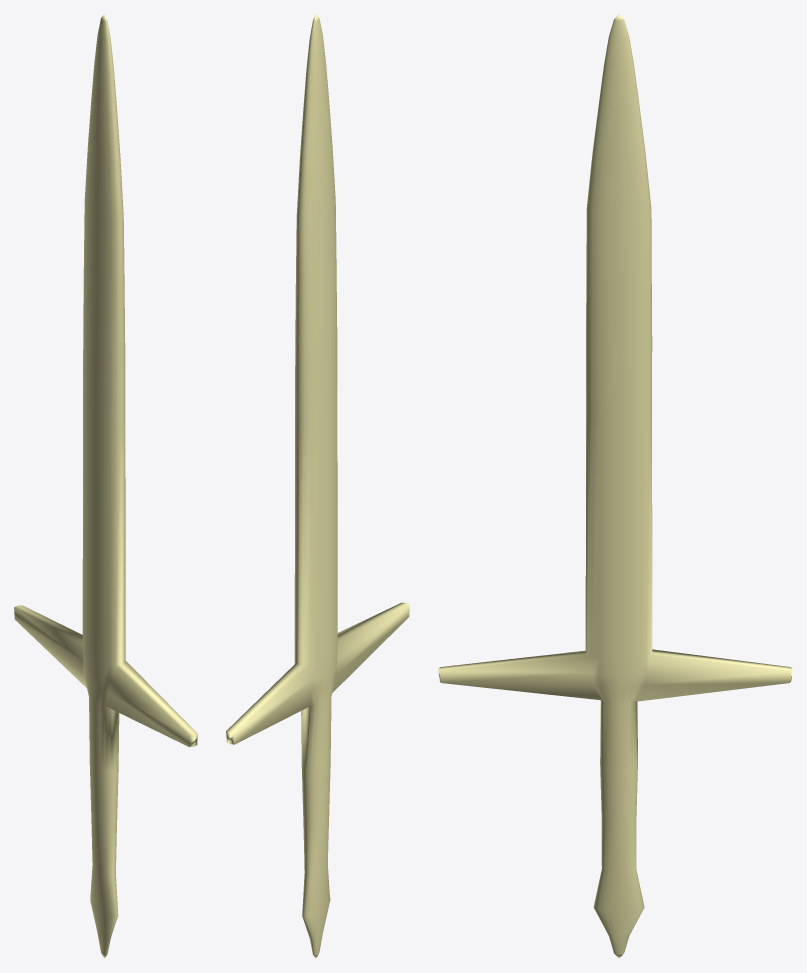
File: sword.obj
3 views of the same model, side by side, from view 1: azimuth 30°, elevation 25°; view 2: azimuth 150°, elevation 25°; view 3: azimuth 270°, elevation 25° (orthographic).
Size of the model in its own units: 0.15 by 4.98 by 1.69.
